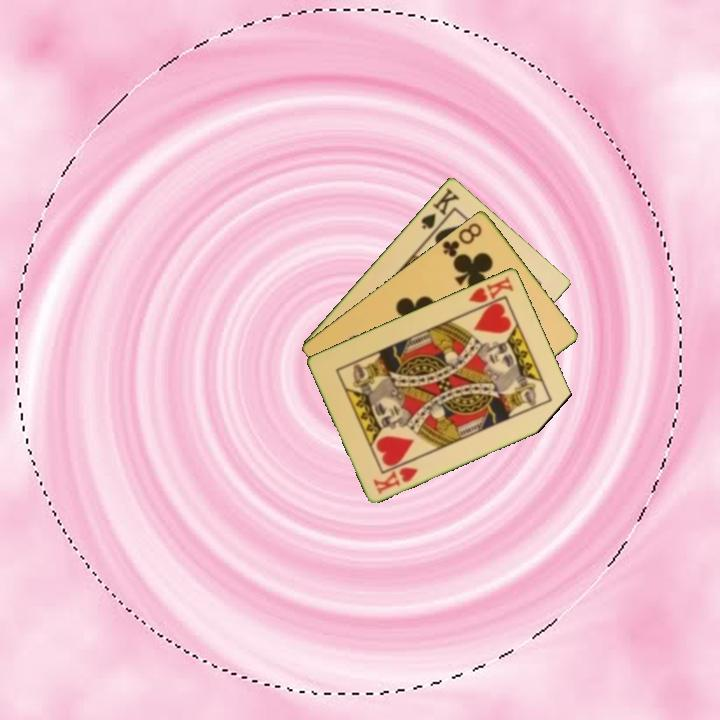8c: (439, 219, 485, 262)
Kh: (465, 273, 517, 314), (370, 463, 421, 497)
Ks: (417, 184, 463, 232)
